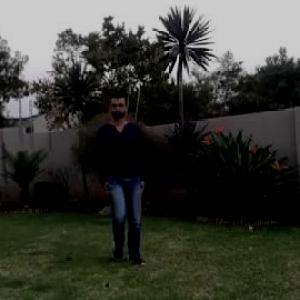follow: (101, 99, 147, 252)
